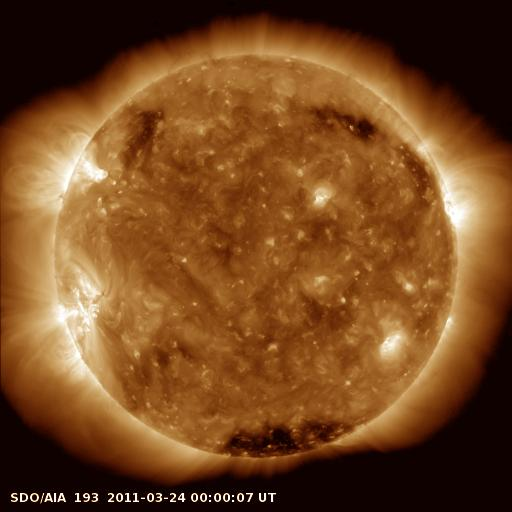coronal_hole: (218, 416, 362, 463), (123, 104, 166, 172), (313, 99, 381, 142)
